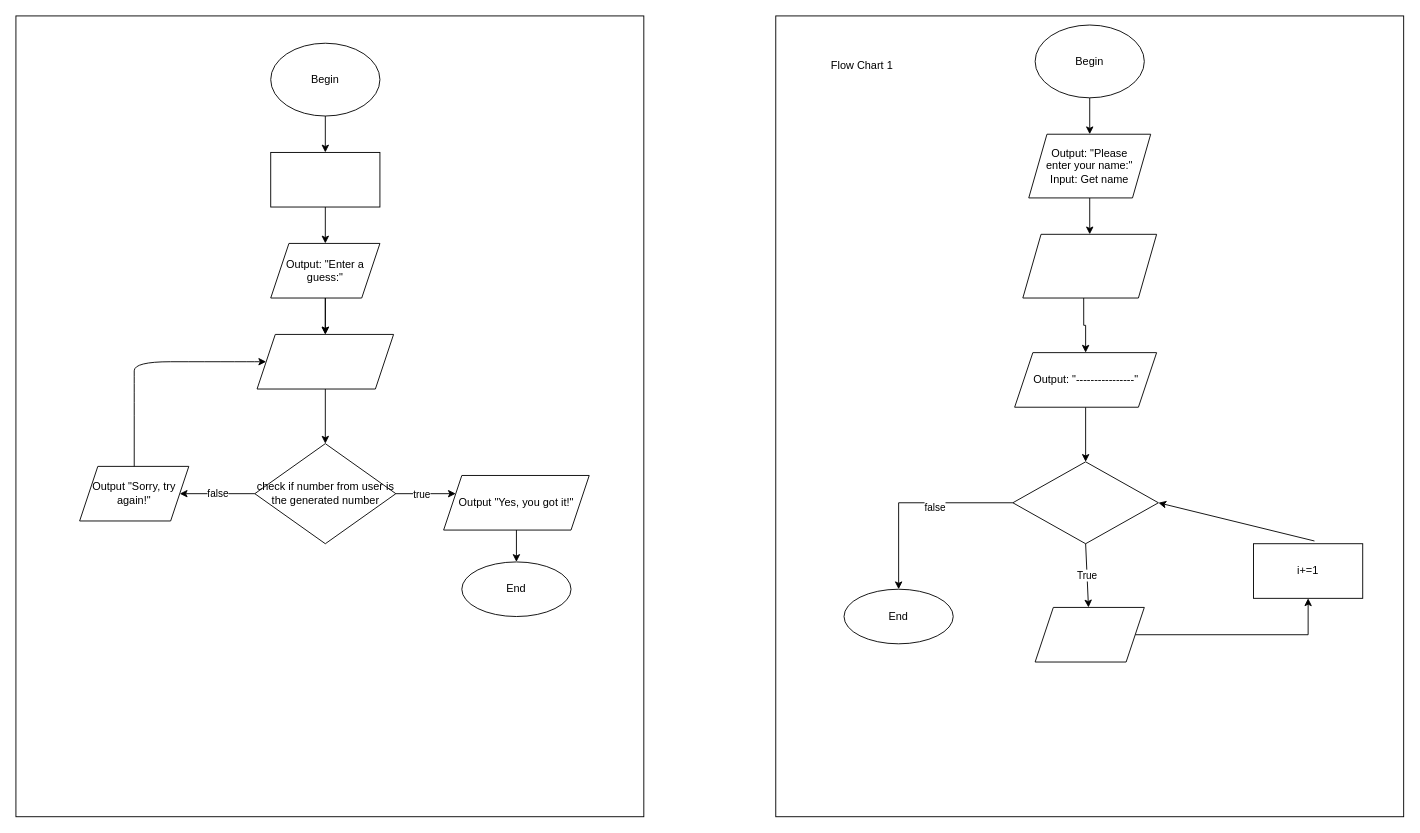
The diagram is 1420 pixels wide and 833 high, and some of its shapes have lost their labels. Here are the shapes that lost their labels. From the top down, the box of each, then its label:
(270, 152, 380, 207): Generate random number between 1 and 5
(1022, 233, 1157, 298): Output: "Please enter your name:" Input: Get number i
(256, 334, 394, 389): Get number from user
(1012, 461, 1158, 544): i <=user entered value (number)
(1034, 607, 1144, 662): output name
